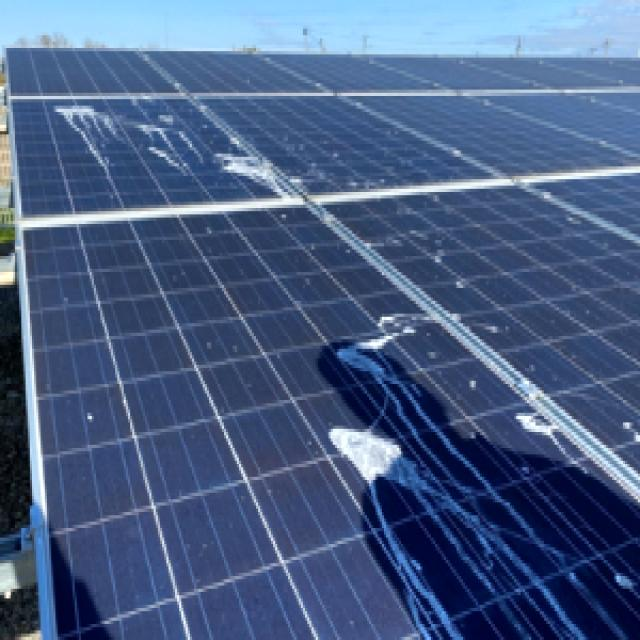bird: (333, 413, 439, 544), (42, 96, 128, 168), (330, 326, 422, 392), (212, 130, 291, 197), (510, 403, 580, 472), (427, 236, 480, 302), (145, 98, 184, 172), (619, 397, 640, 457), (610, 552, 630, 608)
